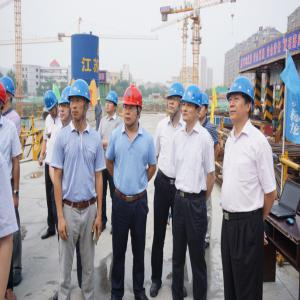blue: (229, 78, 255, 123), (69, 78, 91, 124), (182, 87, 203, 126), (169, 84, 185, 118), (44, 90, 59, 120), (2, 76, 16, 108), (60, 86, 71, 124), (105, 91, 120, 116), (200, 94, 210, 123)
red: (1, 83, 8, 116)
yellow: (98, 98, 102, 105), (256, 104, 258, 109)
